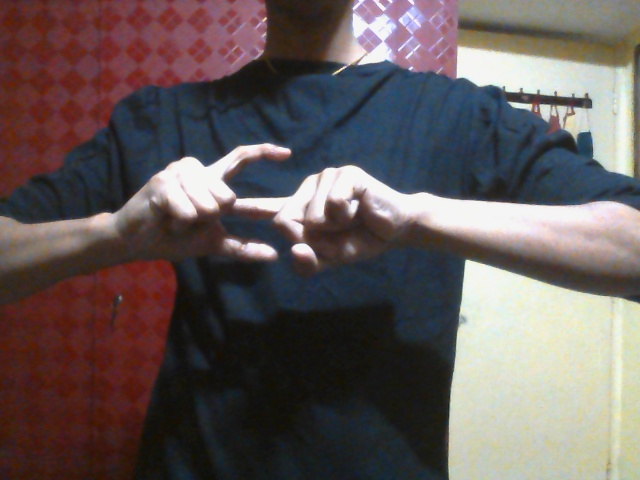E: (142, 139, 414, 285)
